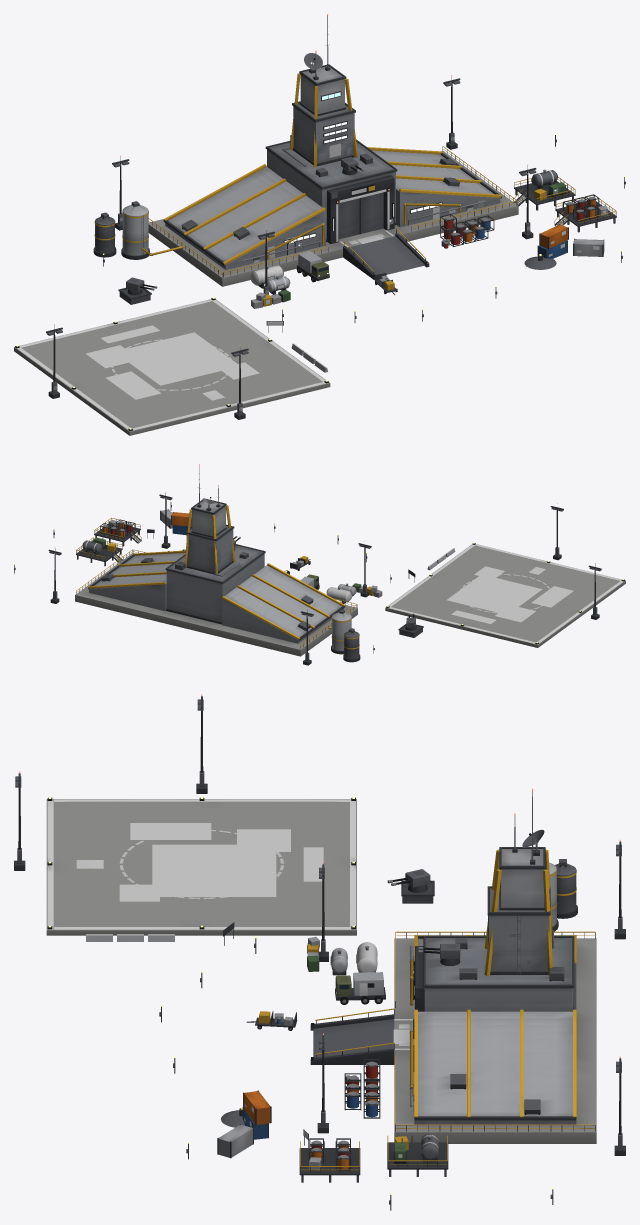
Rendered from Aussenposten.a06051c851.glb.
The picture shows the model from 3 angles, top to bottom: view 1: azimuth 30°, elevation 25°; view 2: azimuth 150°, elevation 25°; view 3: azimuth 270°, elevation 25°; orthographic projection. The views are drawn at different scales.
Visible parts, largest first — view 1: Aussenposten_Kit; view 2: Aussenposten_Kit; view 3: Aussenposten_Kit.
Part boxes in pixels (box(x1,y1,x2,y2)): Aussenposten_Kit: box(14, 14, 625, 435); Aussenposten_Kit: box(14, 464, 625, 665); Aussenposten_Kit: box(14, 694, 625, 1210).
Size of the model in its own units: 149 by 43.1 by 90.7.
